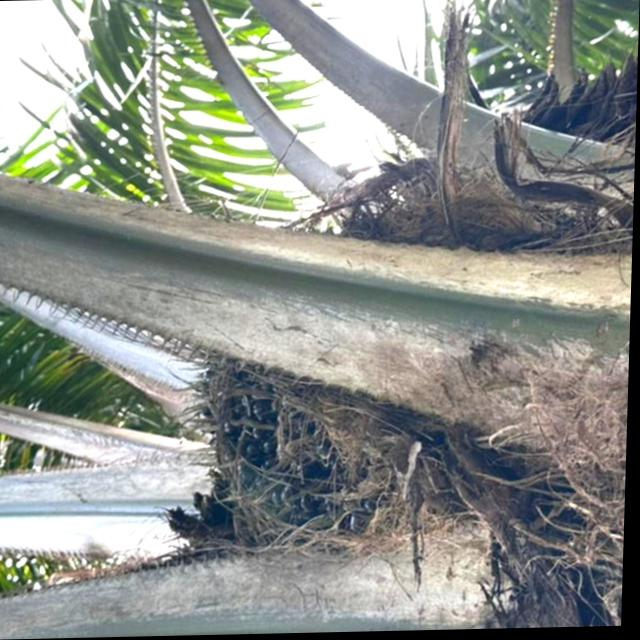almost: (187, 344, 383, 534)
